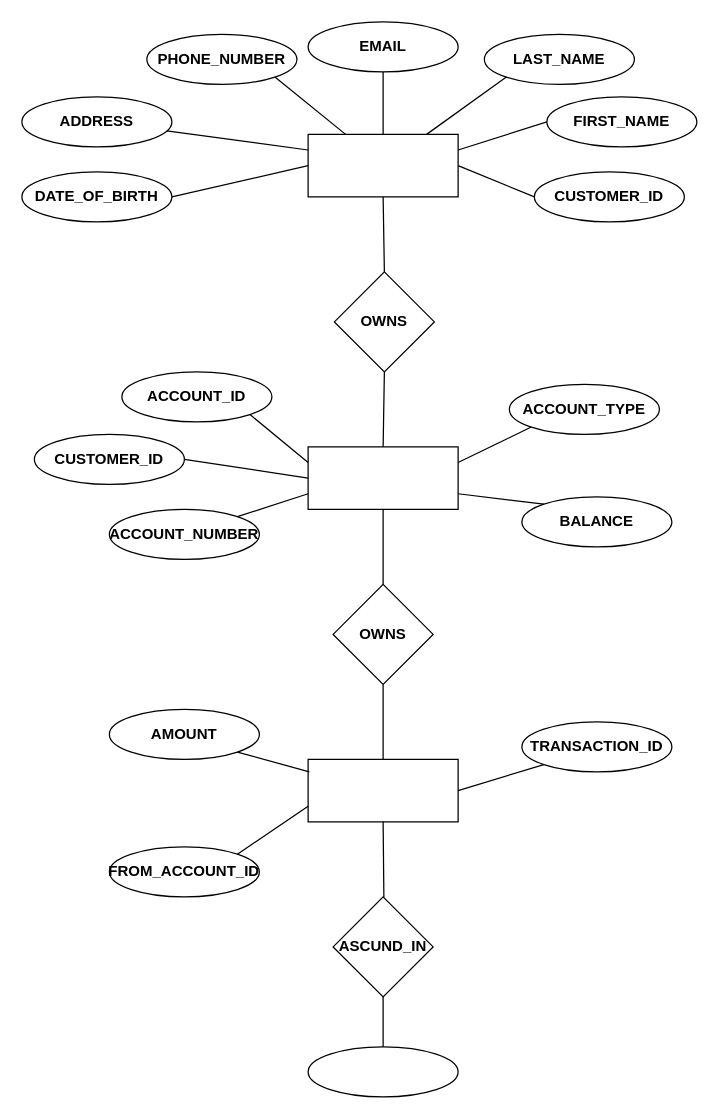
Image size: 719x1119. Some labels were removed from this diagram. The centre of each missing label's shape, as x and y in pixels:
"Accounts" belongs at point (382, 477).
"Customer" belongs at point (382, 165).
"TRANSACTION_DATA" belongs at point (382, 1071).
"Transactions" belongs at point (382, 790).
